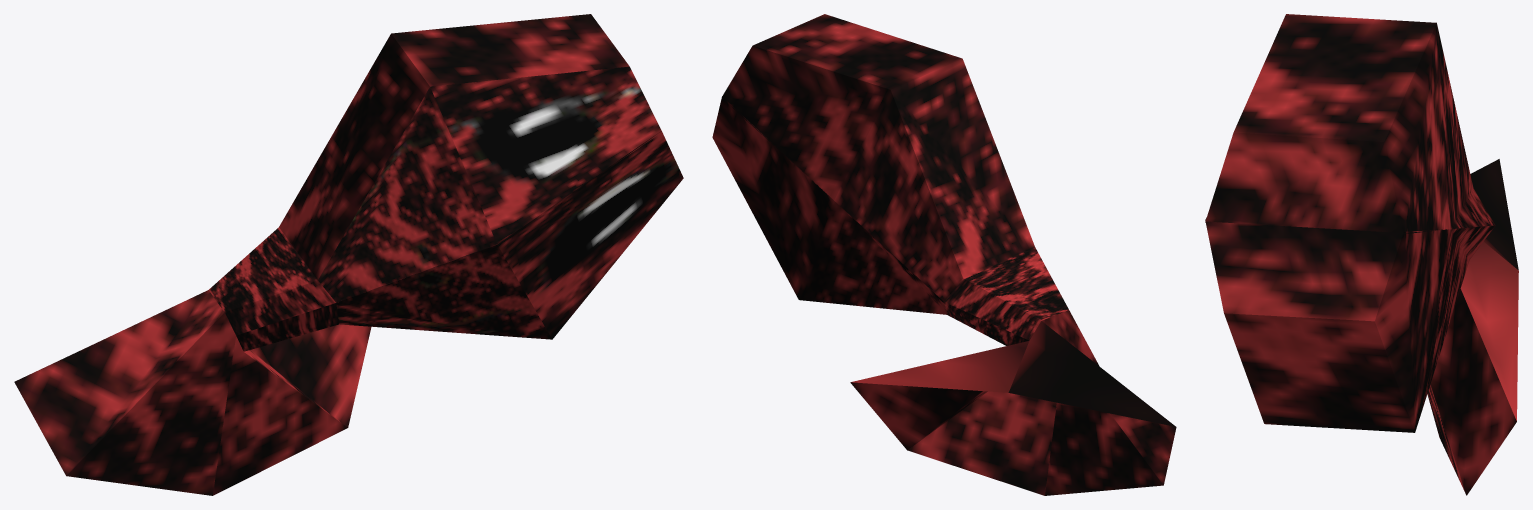
The model's file is headtiltleft.fbx.
3 views of the same model, side by side, from view 1: azimuth 30°, elevation 25°; view 2: azimuth 150°, elevation 25°; view 3: azimuth 270°, elevation 25° (orthographic). The views are drawn at different scales.
Visible parts, largest first — view 1: Cube.001; view 2: Cube.001; view 3: Cube.001.
Part boxes in pixels (x1=…): Cube.001: x1=14, y1=14, x2=683, y2=495; Cube.001: x1=712, y1=14, x2=1176, y2=495; Cube.001: x1=1205, y1=14, x2=1518, y2=495.
Bounding box in the file's own units: 178 × 123 × 66.89.
